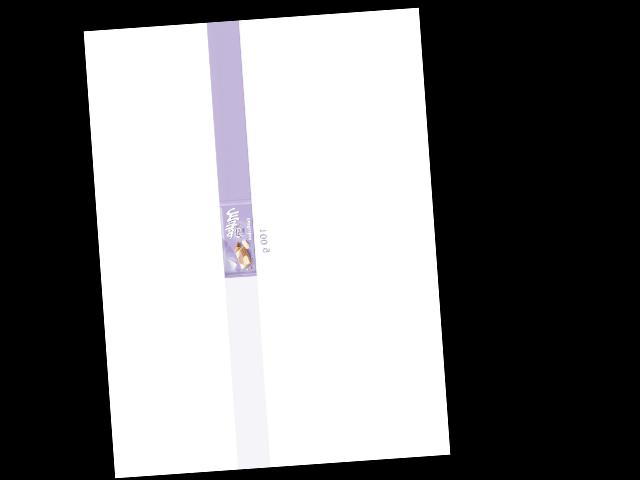chocolate: (218, 198, 261, 279)
